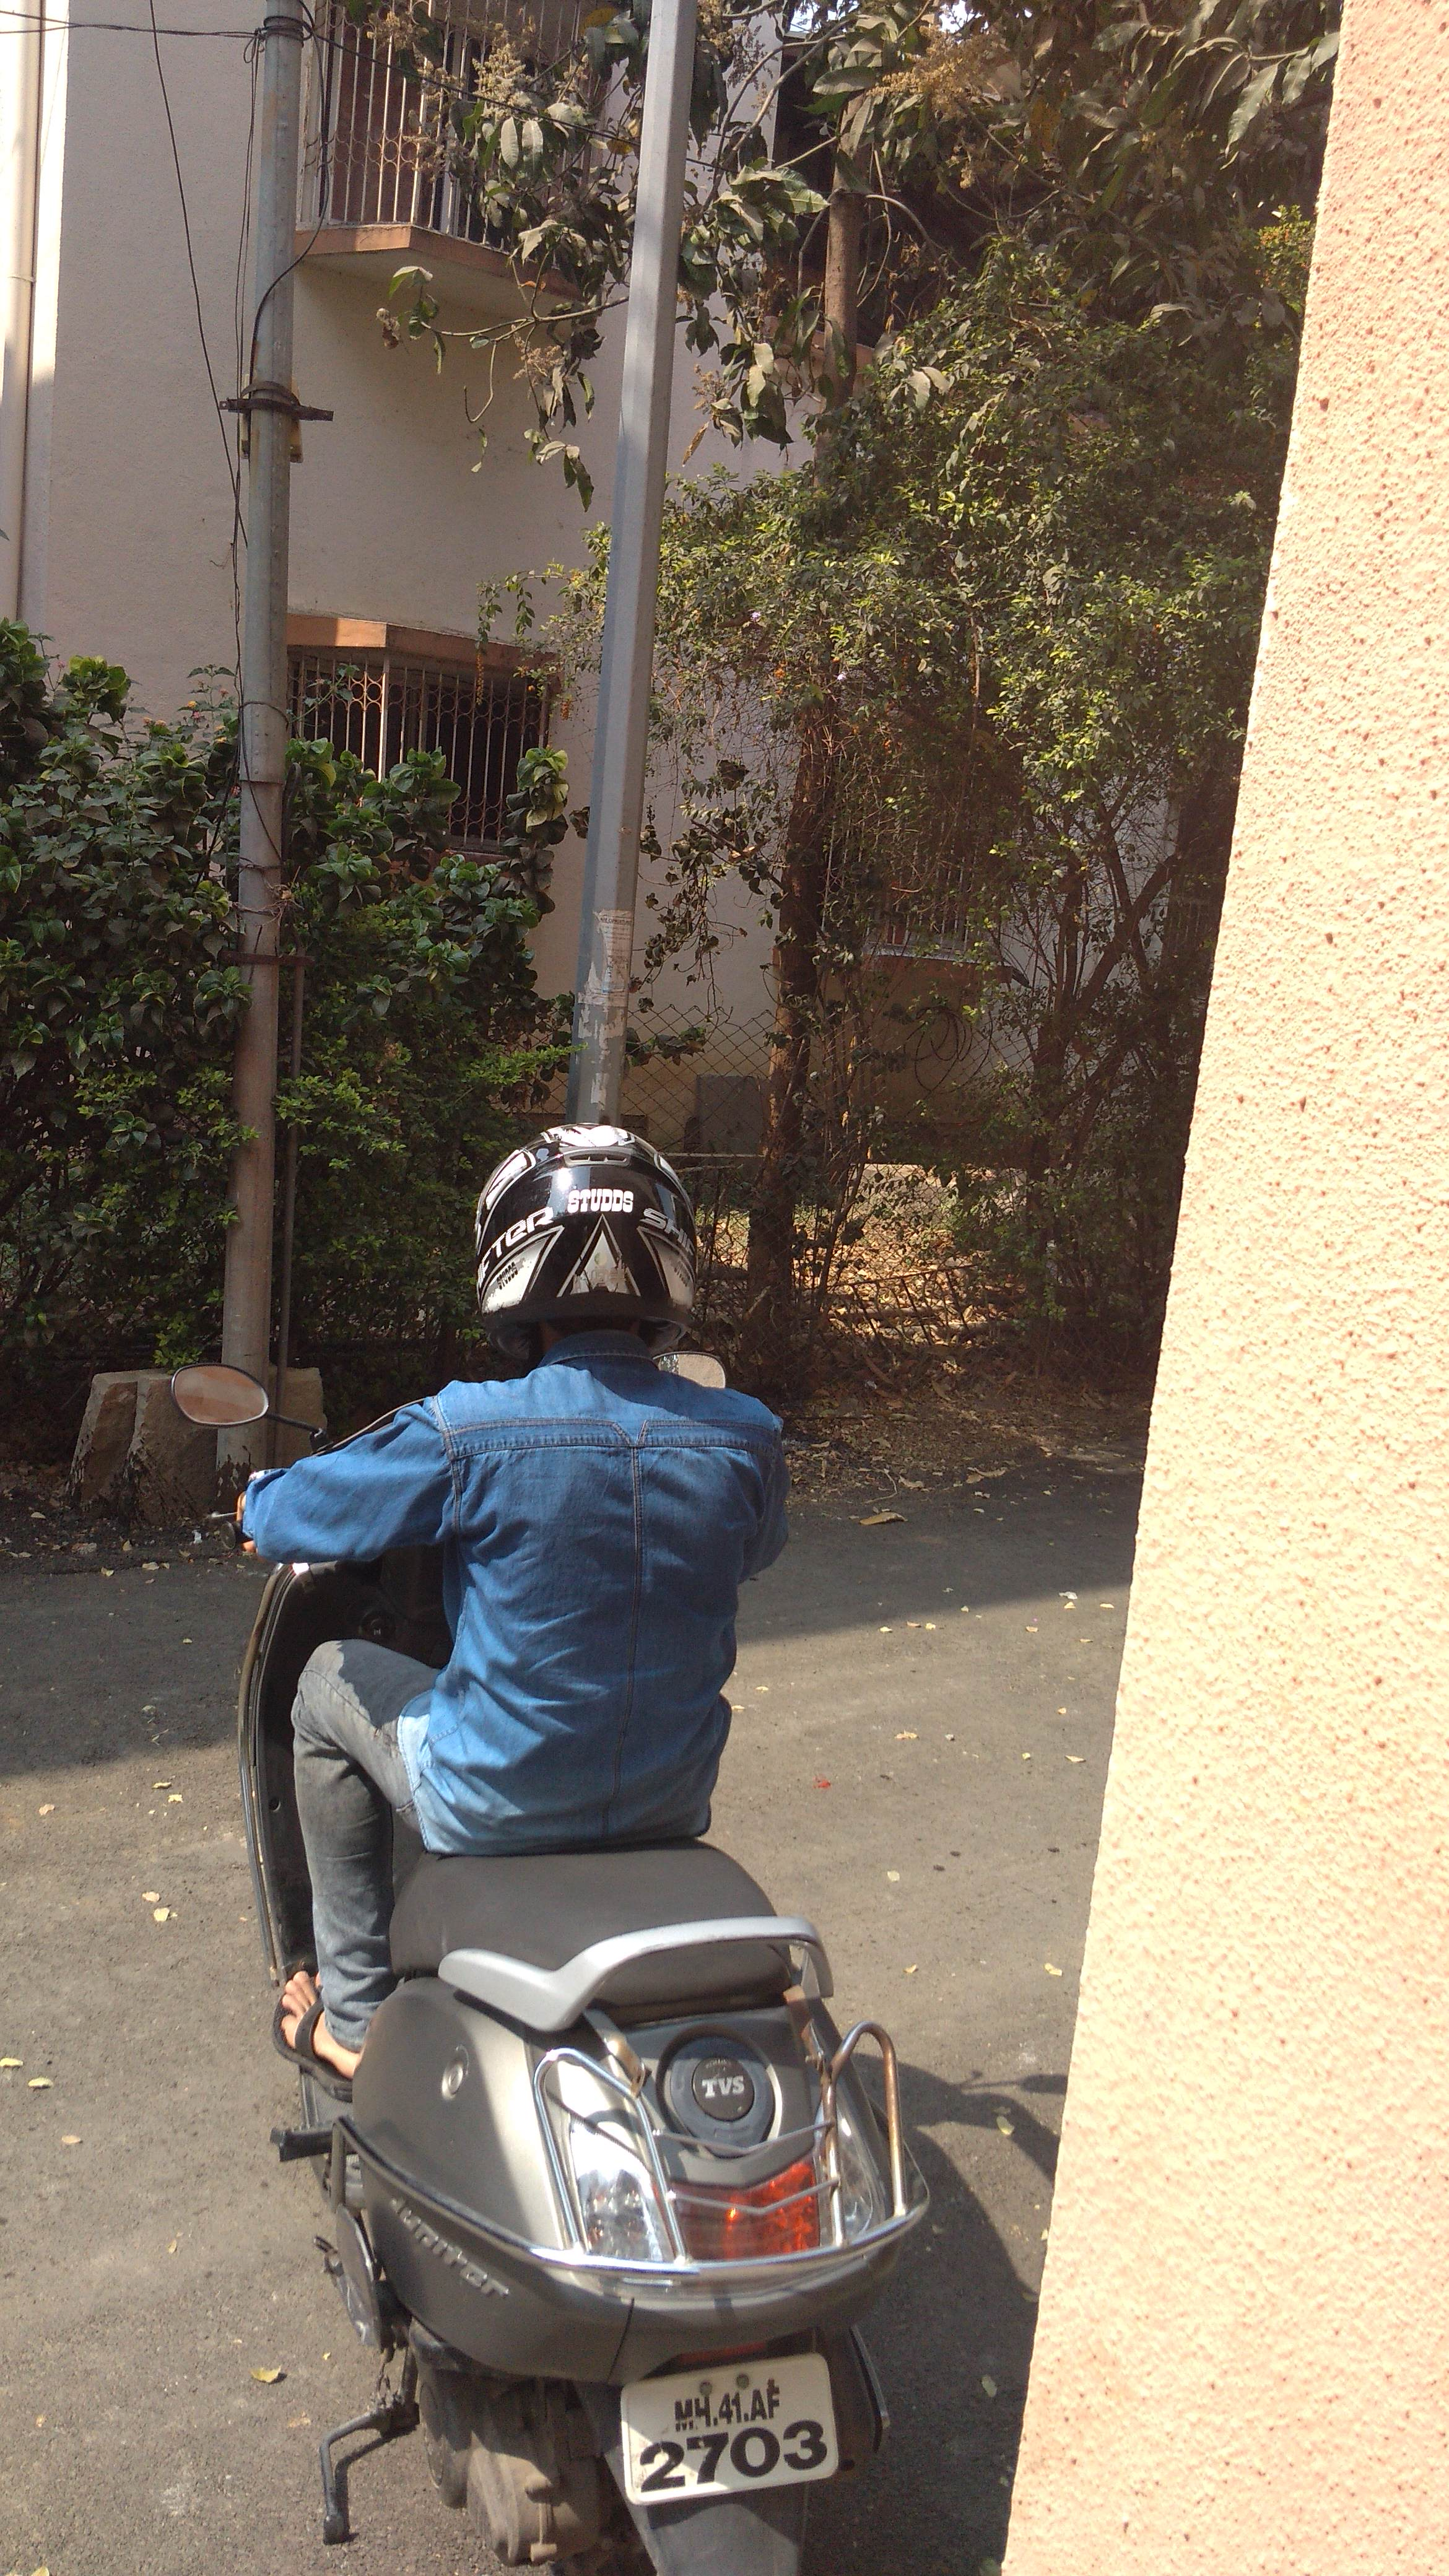helmet: (234, 1086, 856, 1882)
